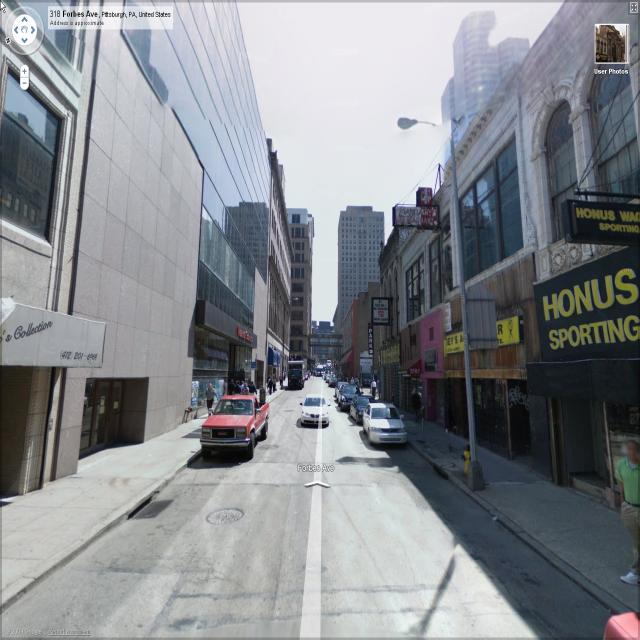b_1: (1, 2, 271, 400), (523, 7, 640, 472), (456, 92, 536, 462), (408, 184, 466, 420), (436, 9, 514, 114), (383, 222, 421, 429), (262, 165, 298, 363), (333, 202, 385, 314), (338, 285, 386, 383), (290, 208, 310, 374)
